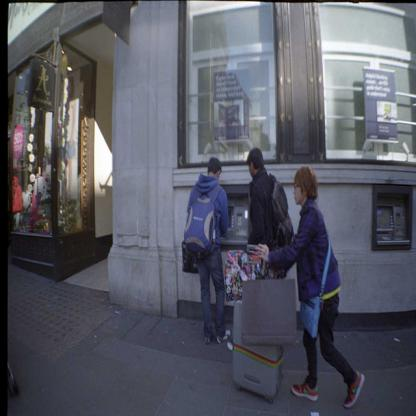backpack: (187, 178, 223, 257), (270, 174, 288, 223)
handbag: (299, 242, 332, 340), (182, 242, 200, 275)
suitcase: (232, 298, 285, 405), (224, 244, 284, 302)
